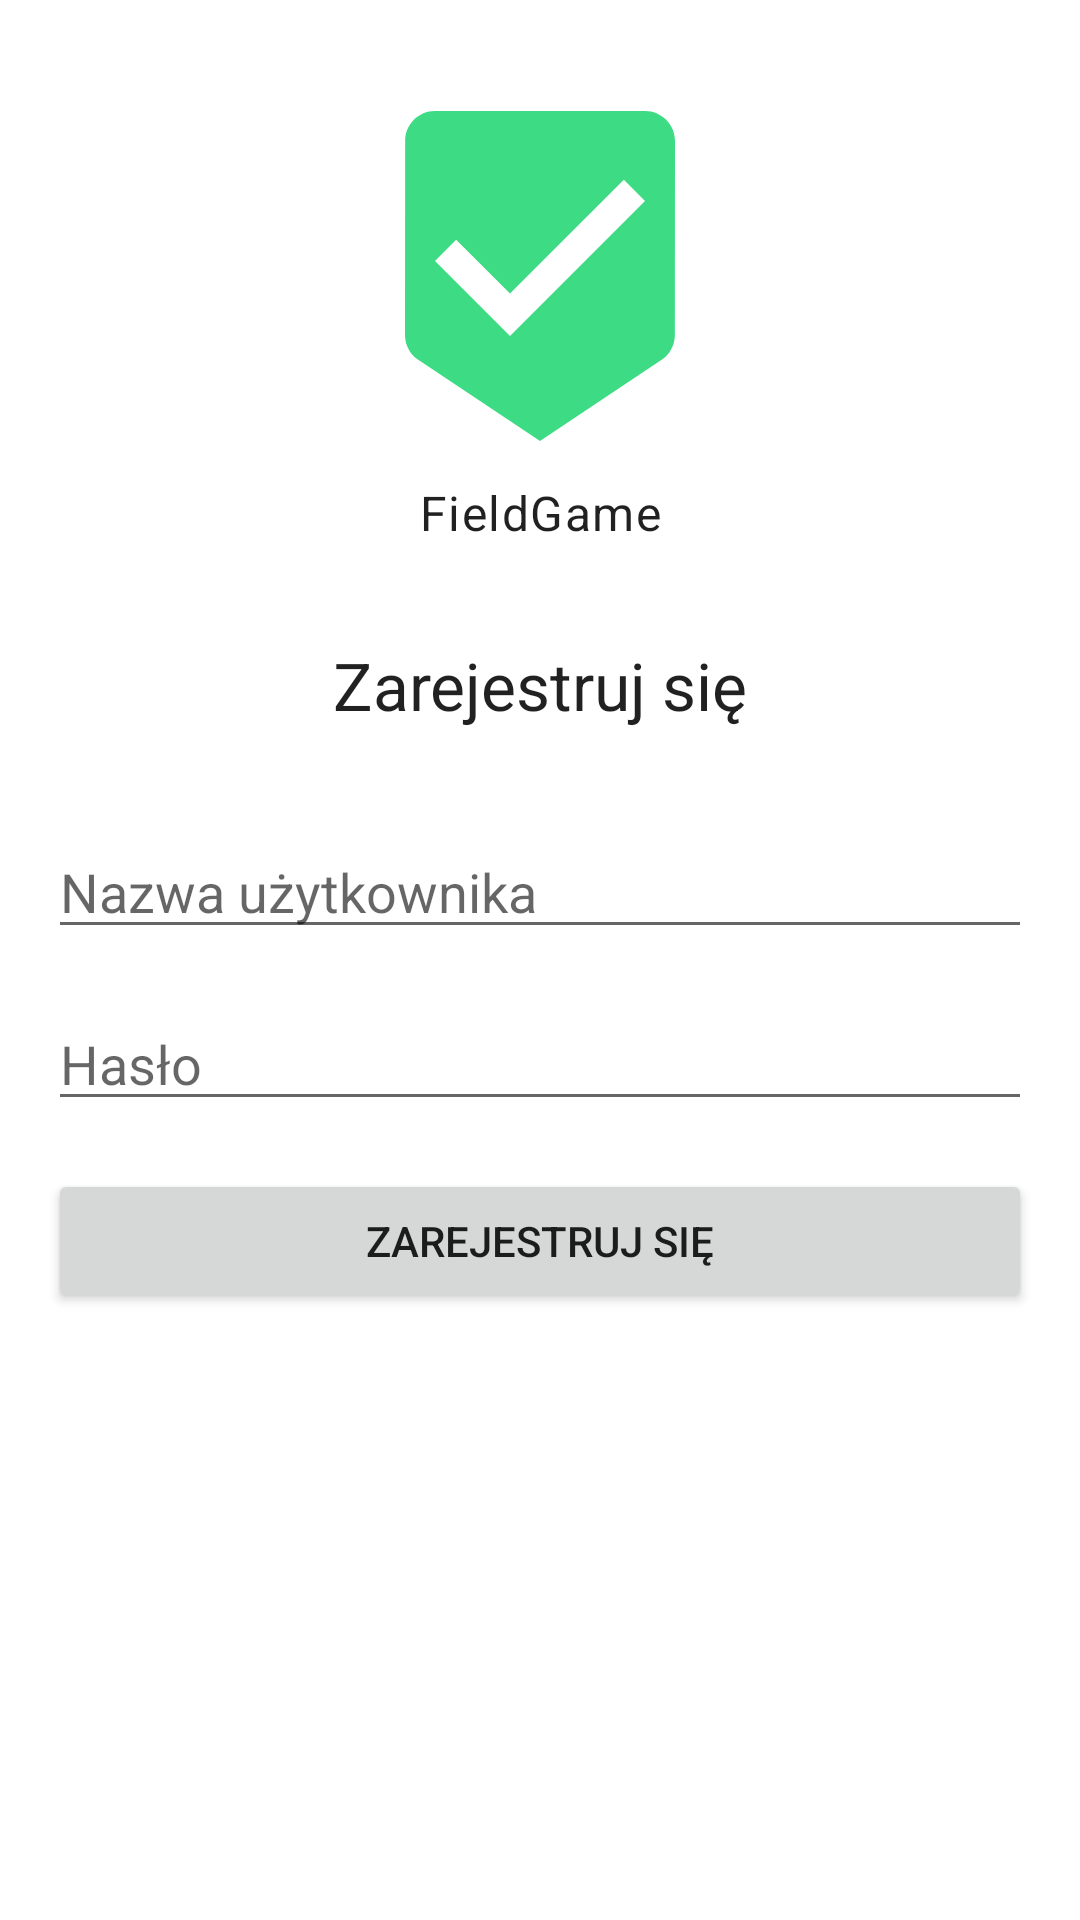

Named icons in this screenshot (1080w x 1920h) and their centers, [x,y]:
beenhere: [540,276]
